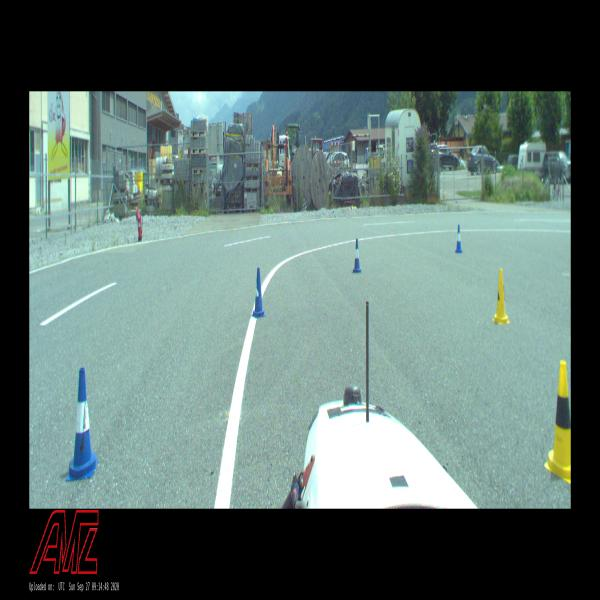blue_cone: (66, 368, 98, 481), (252, 268, 266, 318), (352, 238, 361, 272), (455, 224, 463, 253)
yellow_cone: (544, 360, 571, 485), (492, 269, 510, 324)
